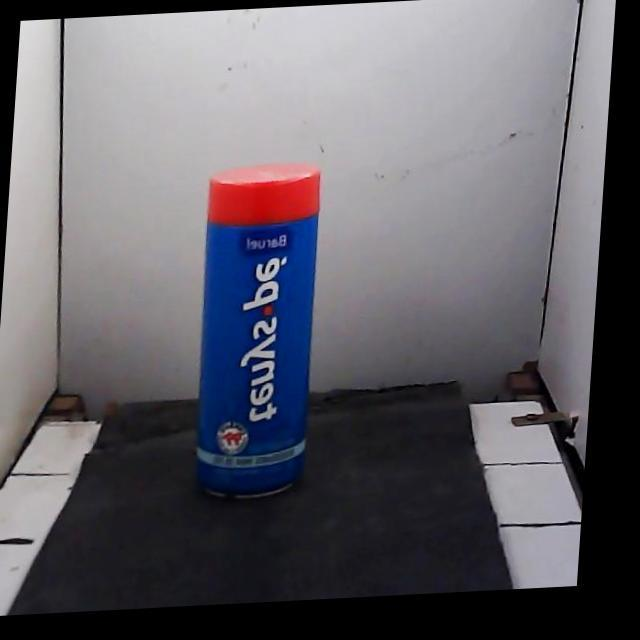plastico: (197, 164, 319, 494)
